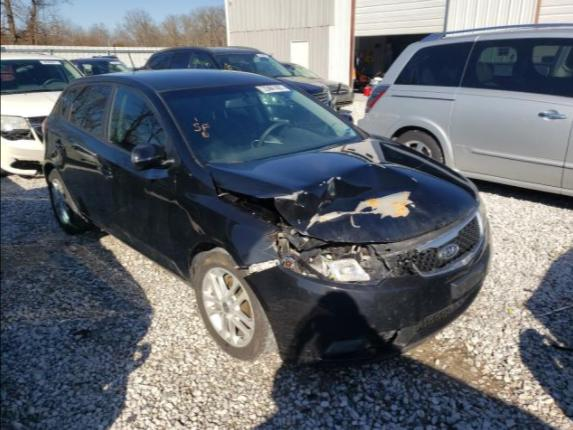Broken part: (235, 219, 492, 368), (208, 133, 479, 249), (373, 208, 484, 276), (276, 224, 390, 288)
Corrosion: (342, 190, 416, 222), (268, 230, 278, 254)
Dent: (272, 178, 371, 225)
Paint chip: (405, 173, 425, 192), (347, 221, 363, 233)
Scratch: (310, 211, 344, 224), (281, 191, 304, 203)
